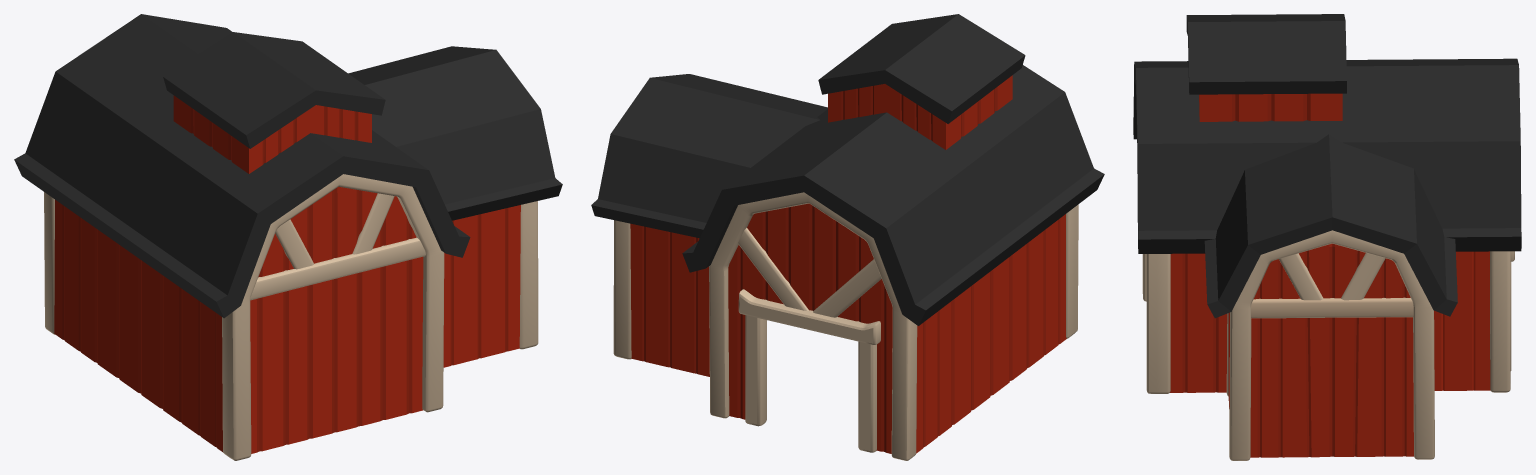
The model's file is Building2.fbx.
The picture shows the model from 3 angles, left to right: view 1: azimuth 30°, elevation 25°; view 2: azimuth 150°, elevation 25°; view 3: azimuth 270°, elevation 25°; orthographic projection. The views are drawn at different scales.
Visible parts, largest first — view 1: Cube.013; view 2: Cube.013; view 3: Cube.013.
Boxes of the visible parts, x1,y1,x2,y2 form: Cube.013: (14, 14, 562, 460); Cube.013: (591, 14, 1104, 460); Cube.013: (1133, 14, 1521, 460).
Size of the model in its own units: 16.39 by 14.47 by 13.31.
